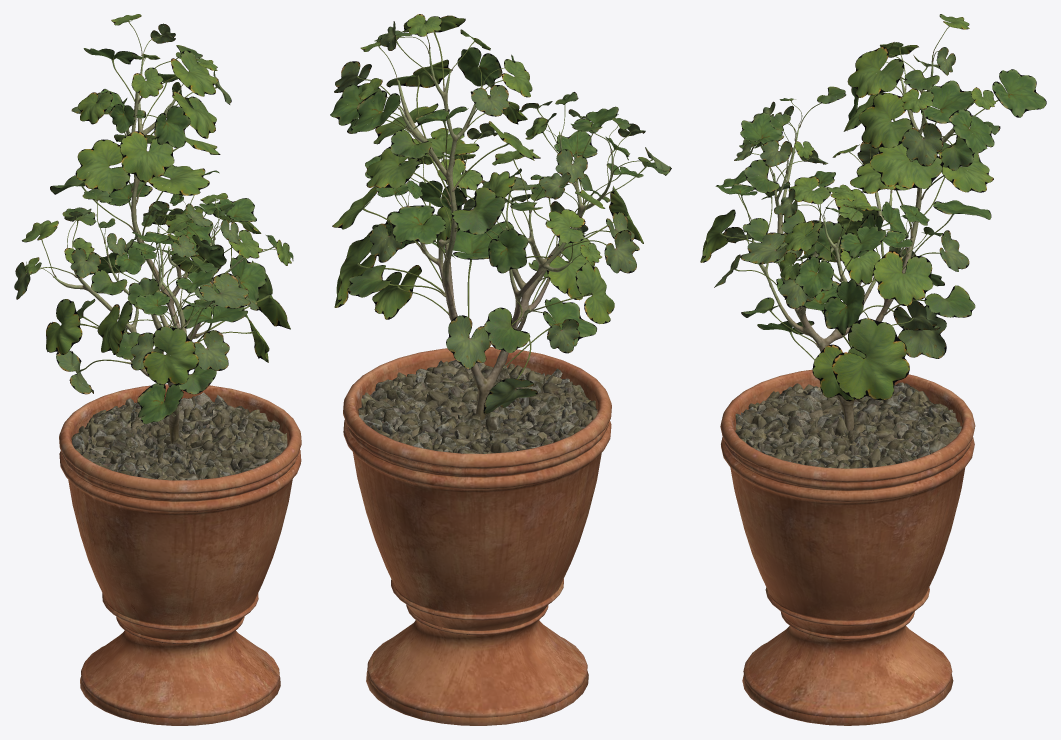
File: decor_plant.glb
3 renders of one model, left to right at view 1: azimuth 30°, elevation 25°; view 2: azimuth 150°, elevation 25°; view 3: azimuth 270°, elevation 25°, orthographic. The views are drawn at different scales.
Parts seen in each view (by area): view 1: potted_plant_01_pot, potted_plant_01_leaves, potted_plant_01_pebbles, potted_plant_01_stem; view 2: potted_plant_01_pot, potted_plant_01_leaves, potted_plant_01_pebbles, potted_plant_01_stem; view 3: potted_plant_01_pot, potted_plant_01_leaves, potted_plant_01_pebbles, potted_plant_01_stem.
Boxes of the visible parts, box(x1,y1,x2,y2) form: potted_plant_01_pot: box(59, 384, 301, 725); potted_plant_01_leaves: box(14, 14, 293, 423); potted_plant_01_pebbles: box(71, 392, 287, 488); potted_plant_01_stem: box(53, 54, 244, 443); potted_plant_01_pot: box(343, 347, 611, 725); potted_plant_01_leaves: box(330, 14, 671, 414); potted_plant_01_pebbles: box(358, 360, 597, 468); potted_plant_01_stem: box(397, 49, 613, 420); potted_plant_01_pot: box(720, 369, 975, 725); potted_plant_01_leaves: box(700, 14, 1046, 401); potted_plant_01_pebbles: box(735, 382, 961, 468); potted_plant_01_stem: box(751, 55, 966, 431).
Size of the model in its own units: 0.5874 by 1.34 by 0.6336.
2 materials, 2 textured.
